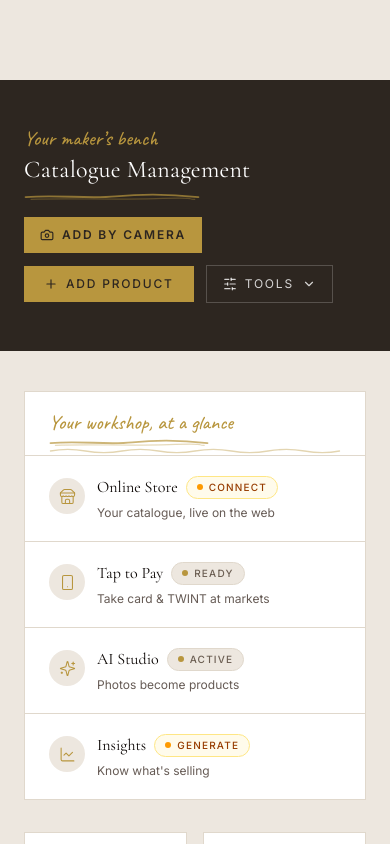
Test: Admin page — header tools on a phone › reveals the tools on demand and folds them away again
Click the button "Tools". click: coordinates (269, 284)
box: [206, 265, 333, 303]
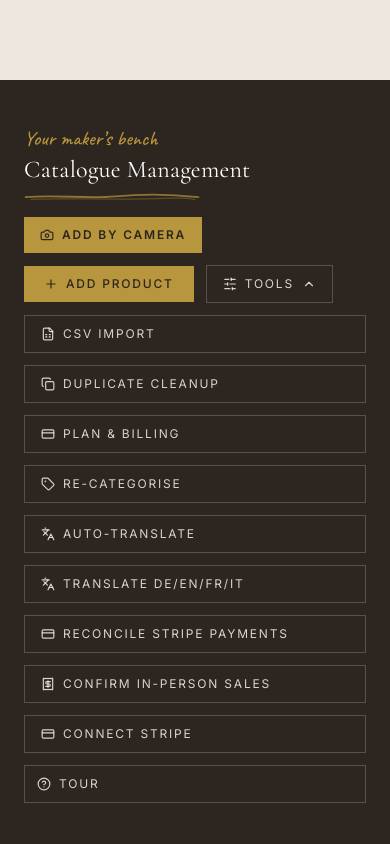
Now the button "Tools" is expanded
Now the link "CSV Import" is shown, box [24, 315, 366, 353]
Now the button "Connect Stripe" is shown, box [24, 715, 366, 753]
Click the button "Tools". click: coordinates (269, 284)
box: [206, 265, 333, 303]
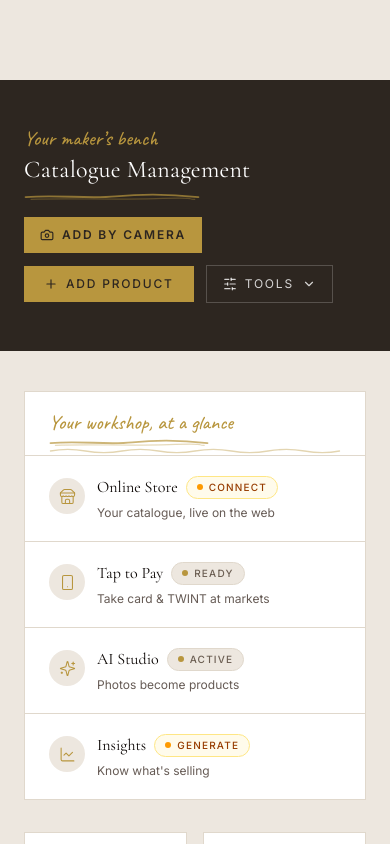
Now the button "Tools" is collapsed, box [206, 265, 333, 303]
Now the link "CSV Import" is gone
